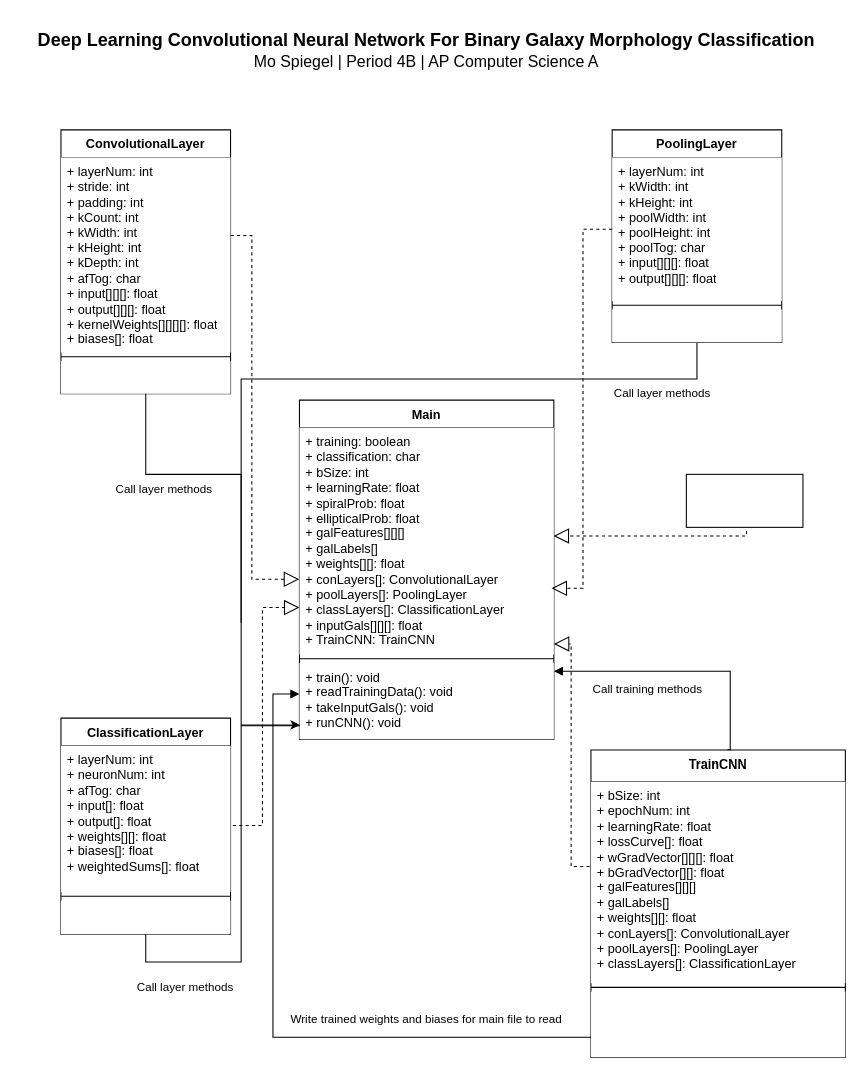
This 864x1078 diagram has some shape labels left out. The centre of each missing label's shape, as x and y in pixels:
+ getLoss(): void + backpropogate(): void + writeData(): void: the point at 717,1024
+ runConvolution(): float[]: the point at 145,376
+ runLayer(): float[]: the point at 145,917
+ runPooling(): float[][][]: the point at 696,325
«datasource» Galaxy Zoo 2: the point at 744,500
